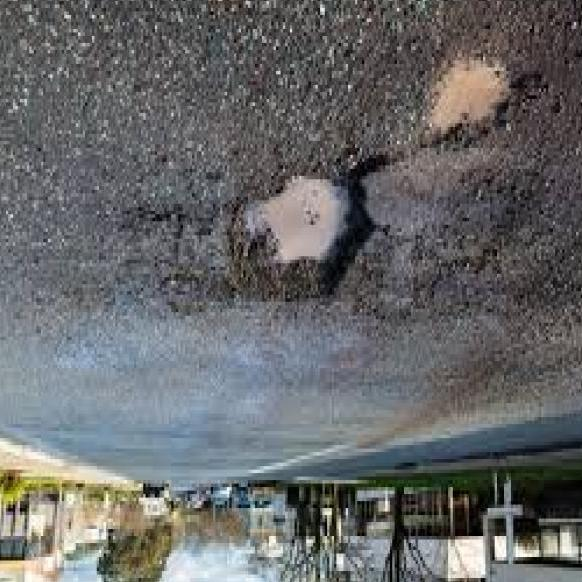pothole: (215, 162, 379, 316), (414, 45, 534, 162)
